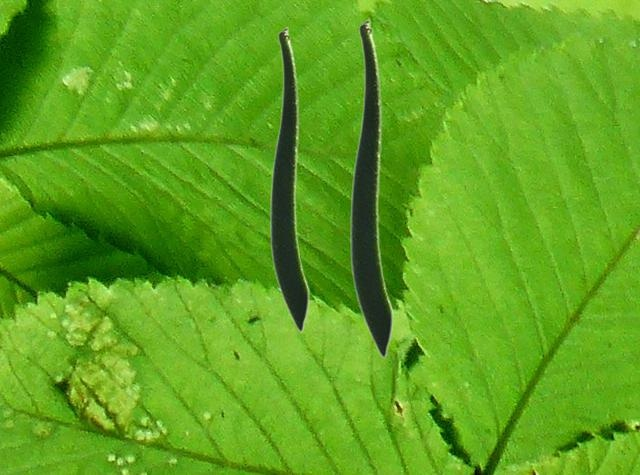french_bean: (349, 18, 393, 358), (269, 26, 309, 332)
